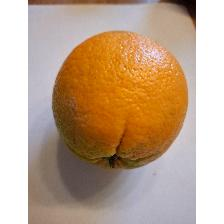Orange: (47, 27, 194, 171)
